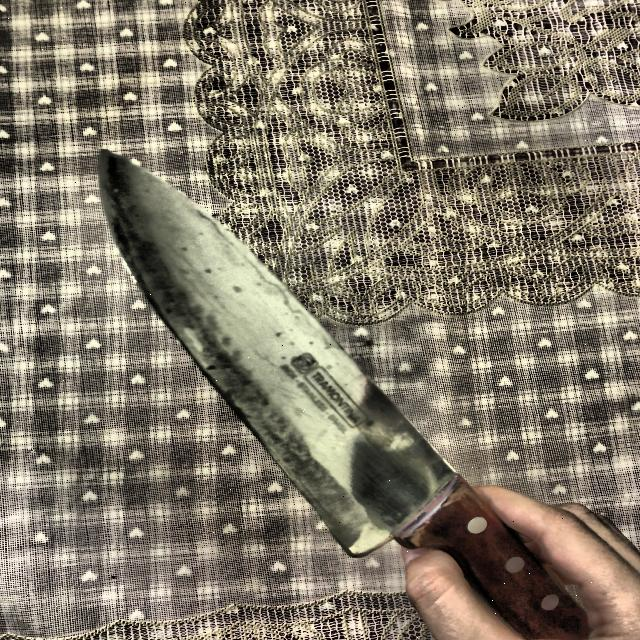knife: (94, 151, 590, 640)
